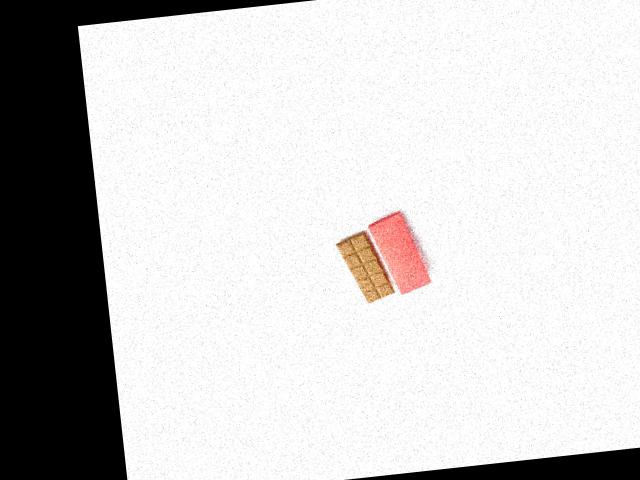chocolate: (334, 224, 399, 307)
